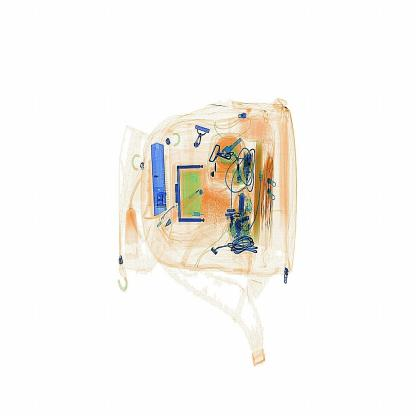pliers: (139, 129, 175, 235)
